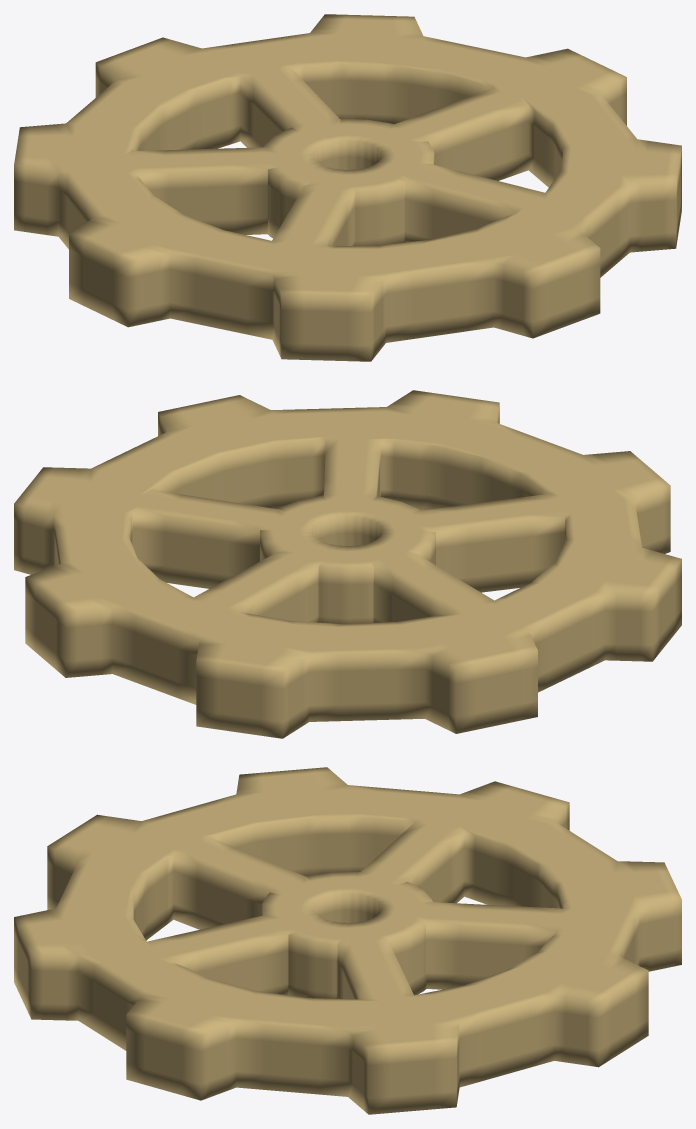
Rendered from gearA (1).fbx.
The picture shows the model from 3 angles, top to bottom: view 1: azimuth 30°, elevation 25°; view 2: azimuth 150°, elevation 25°; view 3: azimuth 270°, elevation 25°; orthographic projection.
Visible parts, largest first — view 1: gearA.000; view 2: gearA.000; view 3: gearA.000.
Part boxes in pixels (x1=…): gearA.000: x1=14, y1=14, x2=681, y2=361; gearA.000: x1=14, y1=390, x2=681, y2=738; gearA.000: x1=14, y1=767, x2=681, y2=1114.
Size of the model in its own units: 1.85 by 0.2 by 1.85.
